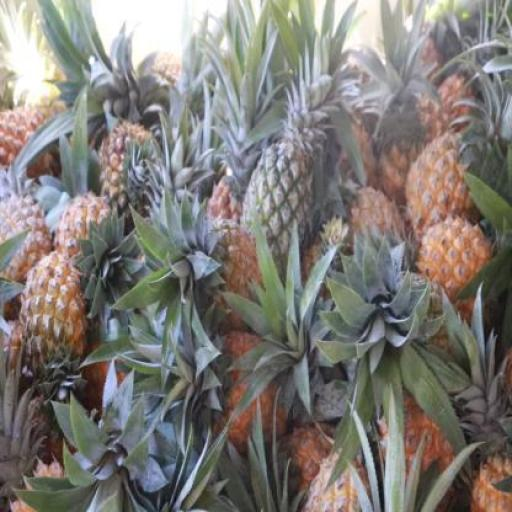Pineapple - v8 v1: (23, 256, 85, 382), (404, 140, 474, 242), (419, 219, 492, 307)
